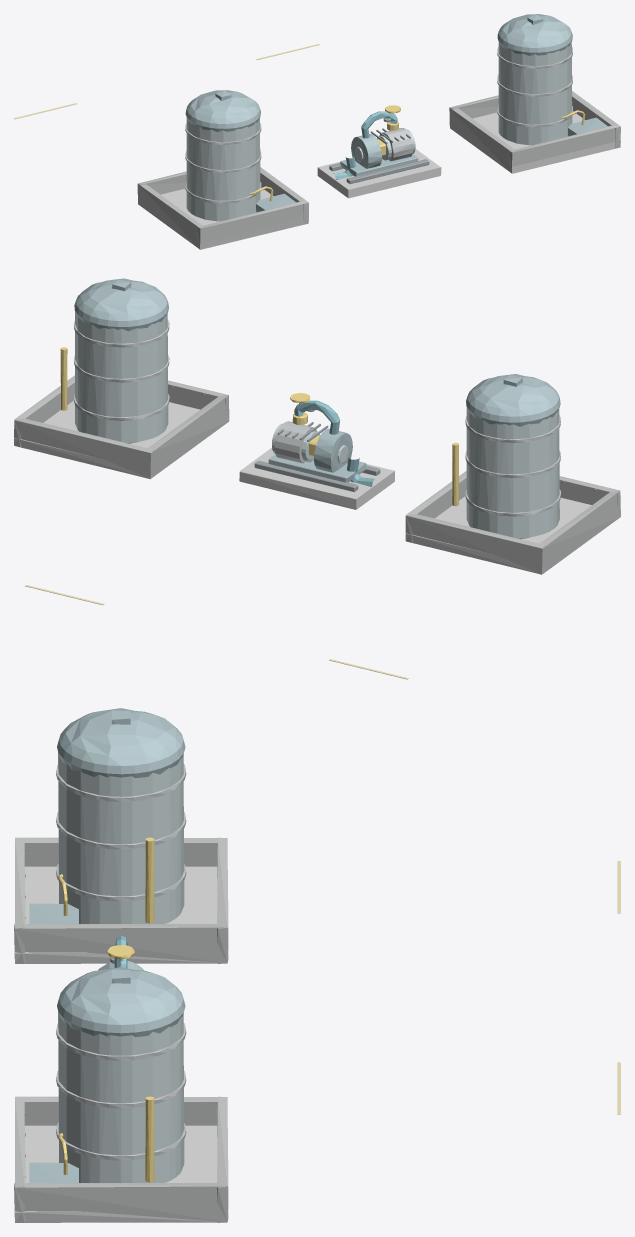
The picture shows the model from 3 angles, top to bottom: view 1: azimuth 30°, elevation 25°; view 2: azimuth 150°, elevation 25°; view 3: azimuth 270°, elevation 25°; orthographic projection. The views are drawn at different scales.
Visible parts, largest first — view 1: render-batch-5, render-batch-3, render-batch-2, render-batch-6, render-batch-4, render-batch-1, render-batch-0, render-batch-8; view 2: render-batch-5, render-batch-3, render-batch-2, render-batch-6, render-batch-4, render-batch-8, render-batch-1, render-batch-0; view 3: render-batch-5, render-batch-3, render-batch-2, render-batch-6, render-batch-4, render-batch-8.
Boxes of the visible parts, x1=… form: render-batch-5: x1=186, y1=42, x2=572, y2=221; render-batch-3: x1=137, y1=91, x2=620, y2=249; render-batch-2: x1=185, y1=14, x2=607, y2=212; render-batch-6: x1=161, y1=111, x2=620, y2=249; render-batch-4: x1=185, y1=46, x2=572, y2=203; render-batch-1: x1=329, y1=118, x2=429, y2=183; render-batch-0: x1=333, y1=111, x2=397, y2=179; render-batch-8: x1=250, y1=105, x2=585, y2=201; render-batch-5: x1=75, y1=311, x2=559, y2=539; render-batch-3: x1=14, y1=375, x2=620, y2=574; render-batch-2: x1=74, y1=278, x2=560, y2=482; render-batch-6: x1=14, y1=400, x2=591, y2=573; render-batch-4: x1=73, y1=319, x2=561, y2=516; render-batch-8: x1=60, y1=347, x2=458, y2=506; render-batch-1: x1=170, y1=385, x2=596, y2=492; render-batch-0: x1=294, y1=400, x2=374, y2=486; render-batch-5: x1=58, y1=752, x2=184, y2=1182; render-batch-3: x1=14, y1=837, x2=228, y2=1222; render-batch-2: x1=29, y1=708, x2=185, y2=1182; render-batch-6: x1=15, y1=866, x2=228, y2=1222; render-batch-4: x1=56, y1=763, x2=186, y2=1160; render-batch-8: x1=58, y1=837, x2=154, y2=1182.
Bounding box in the file's own units: 22.01 × 5.89 × 15.85.
